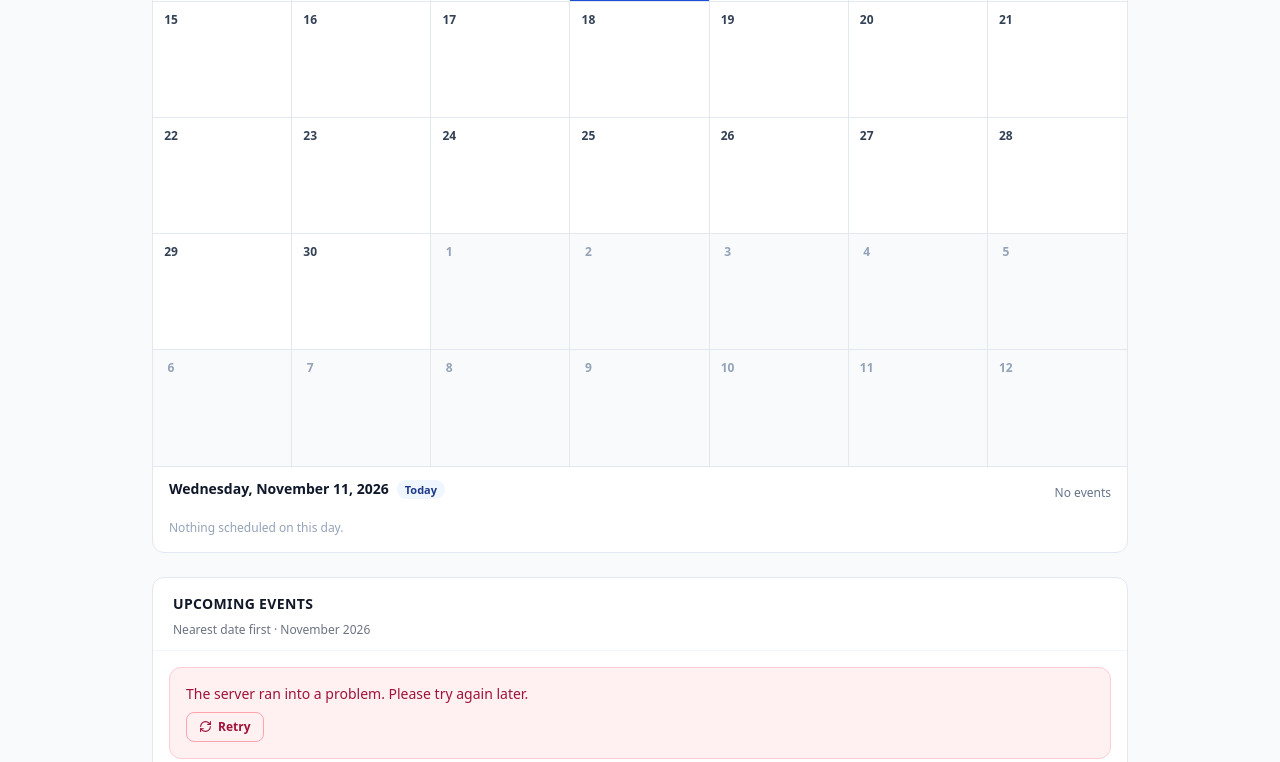
Test: EmployeeCalendarPage (Upcoming Events panel) › surfaces a load error and retries
The width and height of the screenshot is (1280, 762).
(page scrolled)
Expected: the message shows "The server ran into a problem. Please try again later.", [186, 684, 528, 702]
Click the button "Retry" at (225, 726), box [186, 712, 264, 742]
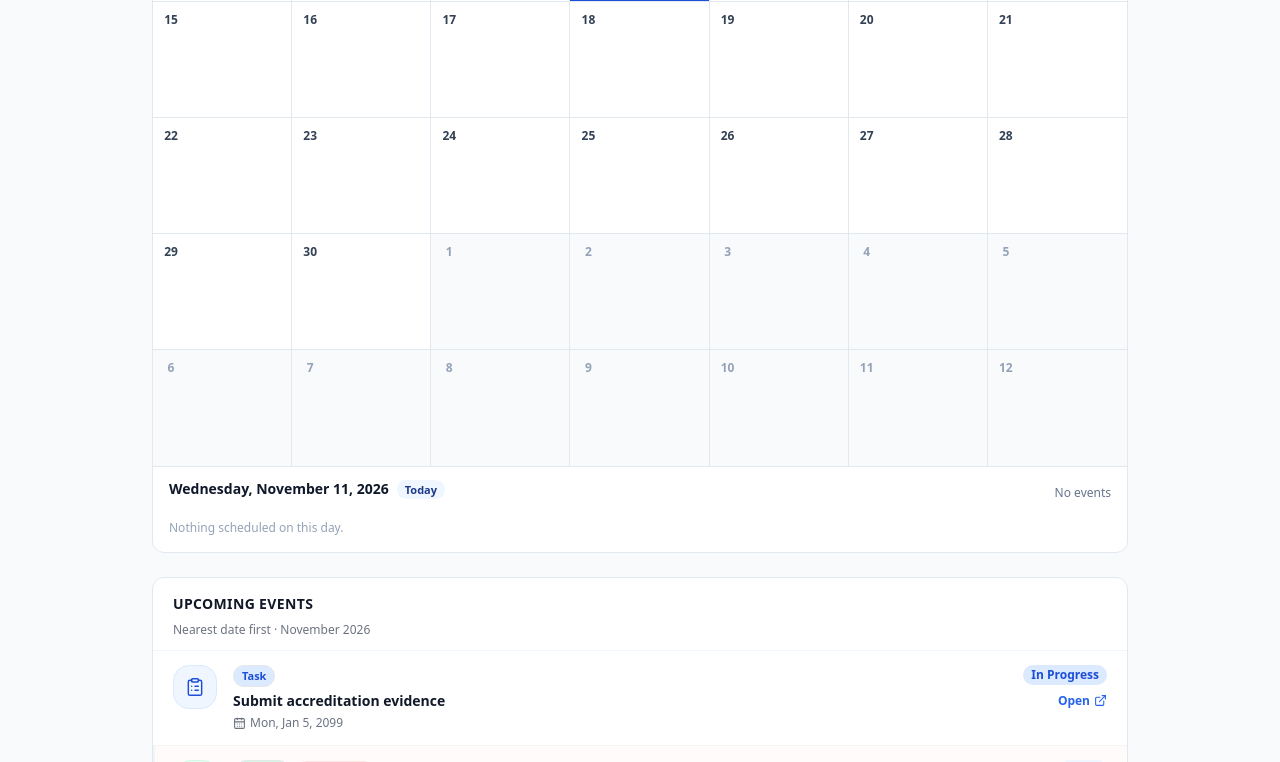
Now the button "Submit accreditation evidence" is shown, box [233, 691, 445, 711]
